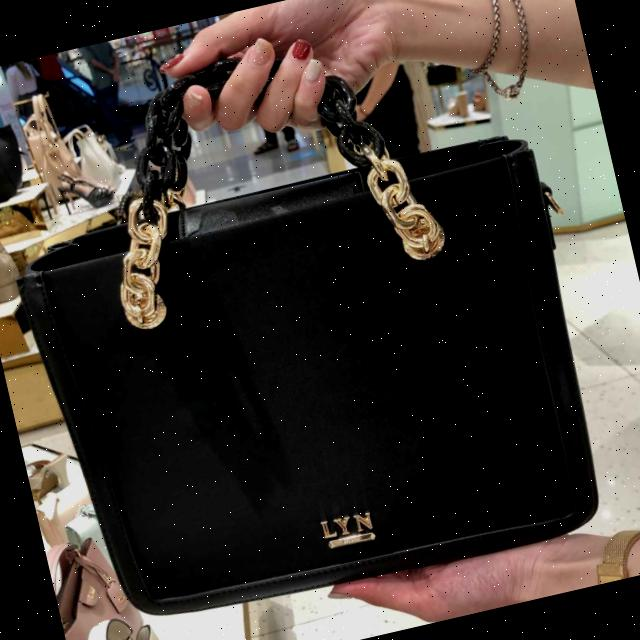Handbag: (0, 73, 627, 640)
